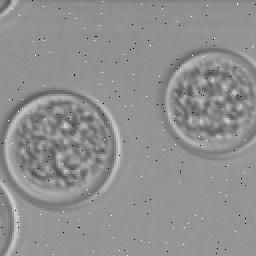picoshell: (6, 90, 120, 204), (164, 48, 256, 158), (2, 180, 20, 254), (2, 0, 18, 18)
